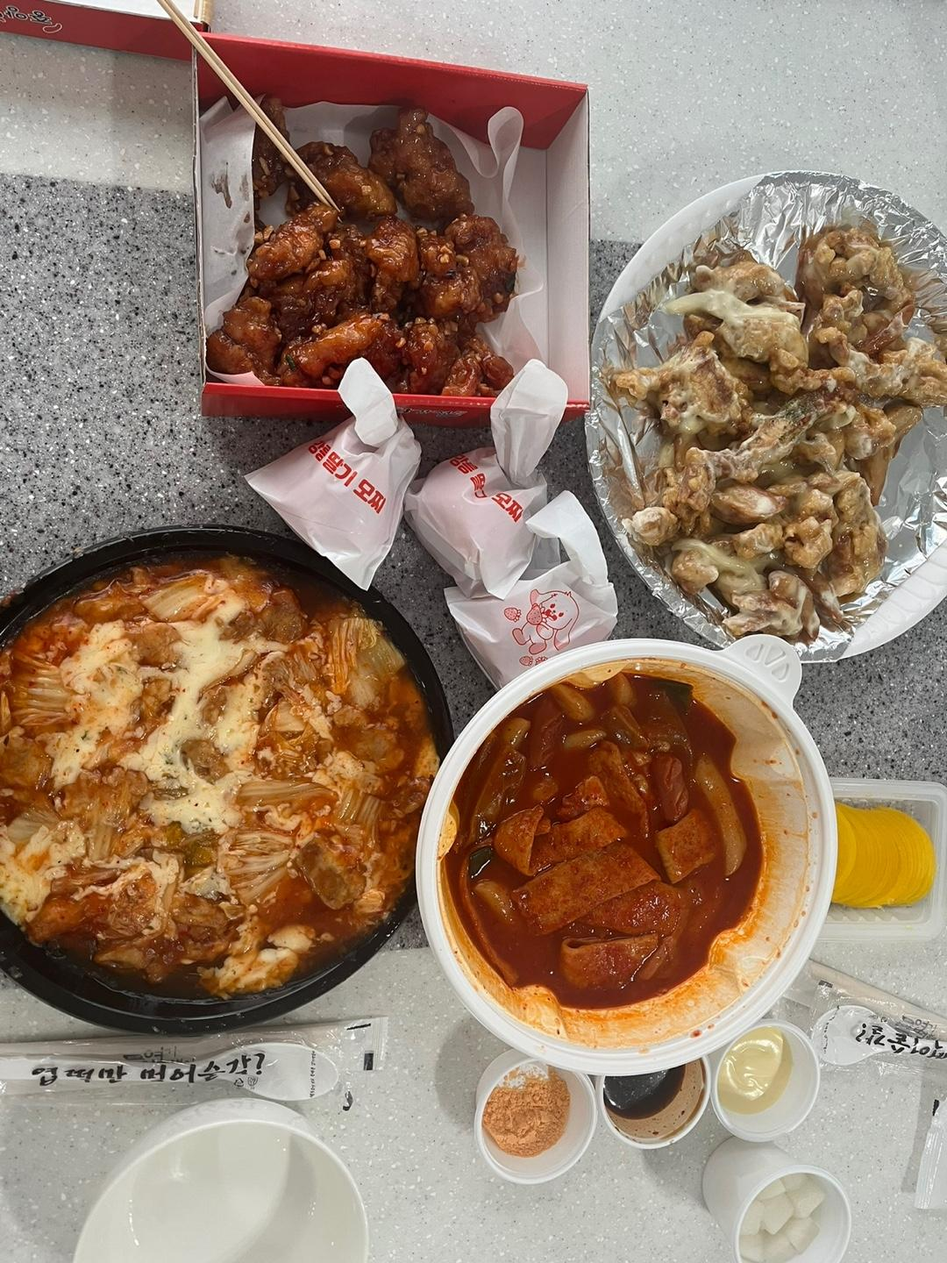Lunch Box: (0, 526, 453, 1033), (417, 635, 837, 1074), (587, 172, 946, 660), (195, 35, 588, 424), (820, 779, 946, 940)
